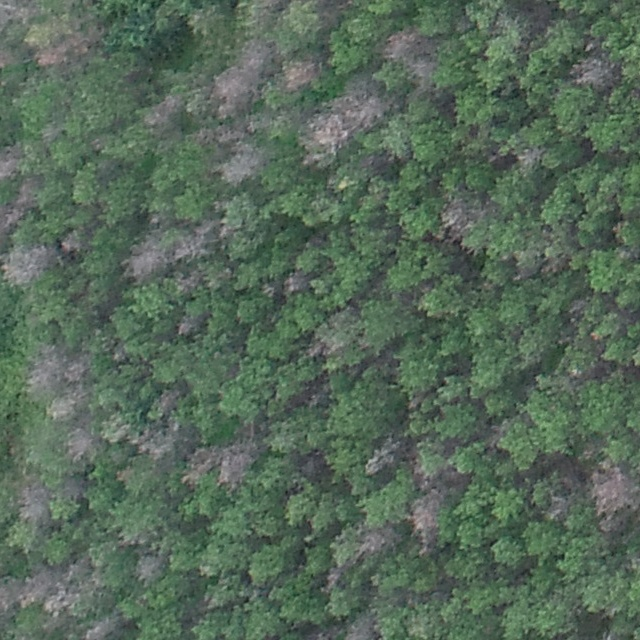unhealthy: (589, 469, 640, 533), (32, 24, 103, 68), (338, 72, 393, 126), (298, 109, 348, 166), (410, 488, 447, 558), (213, 66, 259, 116), (215, 143, 268, 185), (125, 231, 168, 280), (3, 245, 54, 285), (0, 178, 37, 233), (175, 217, 220, 261), (573, 50, 621, 91), (438, 192, 479, 239), (350, 522, 402, 559), (216, 442, 257, 488), (21, 564, 62, 610), (180, 444, 221, 488), (26, 349, 65, 395), (17, 480, 52, 527), (364, 436, 401, 480), (138, 426, 183, 462), (305, 322, 349, 357), (48, 387, 90, 422), (66, 428, 103, 466), (382, 27, 421, 59), (243, 37, 277, 73), (0, 142, 31, 180), (193, 124, 247, 145), (152, 387, 186, 418), (0, 565, 21, 615), (85, 616, 126, 640), (513, 248, 542, 281), (62, 559, 93, 589), (409, 57, 438, 89), (151, 91, 183, 120), (135, 554, 166, 583), (346, 613, 379, 640), (543, 244, 569, 278), (102, 413, 132, 442), (65, 354, 93, 385), (285, 62, 316, 89), (58, 227, 85, 256), (173, 268, 203, 292), (519, 145, 546, 171), (544, 495, 570, 521), (178, 315, 203, 337), (282, 273, 309, 292)
